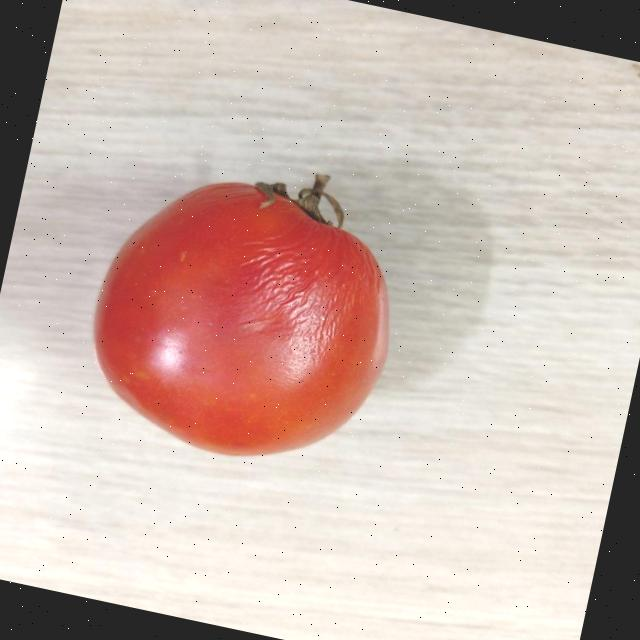Tomato: (58, 126, 429, 491)
